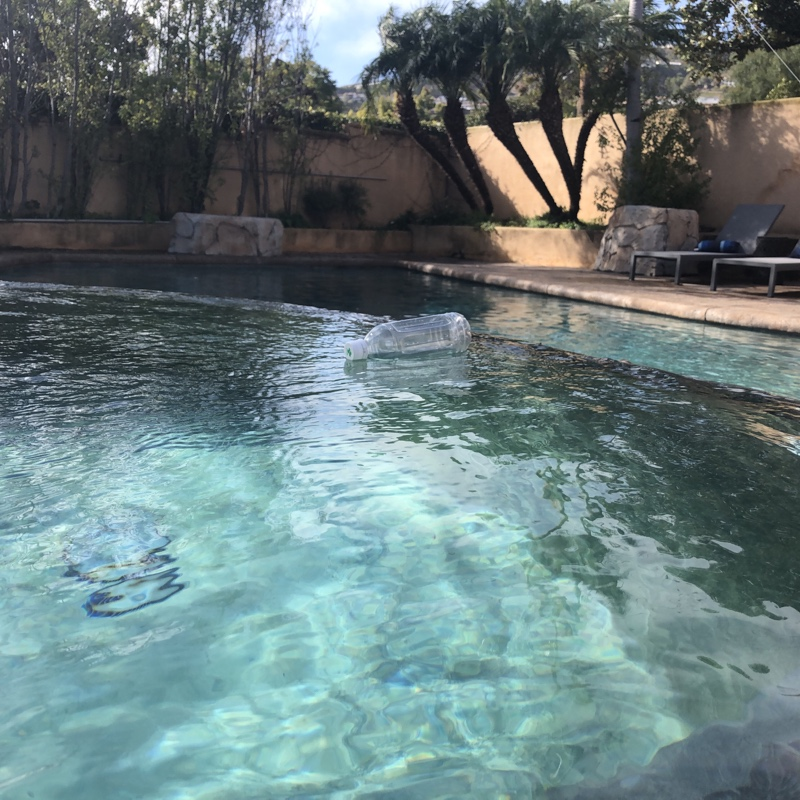Plastic Bottle: (342, 311, 474, 363)
